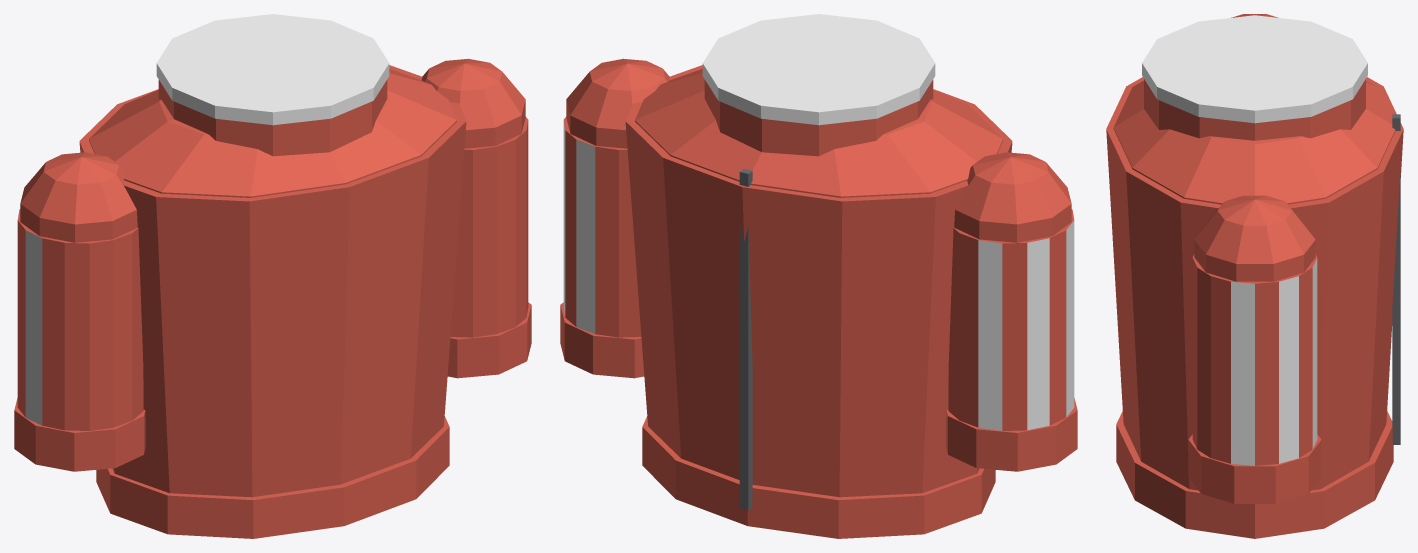
Rendered from jacket_abibas.glb.
3 views of the same model, side by side, from view 1: azimuth 30°, elevation 25°; view 2: azimuth 150°, elevation 25°; view 3: azimuth 270°, elevation 25° (orthographic). The views are drawn at different scales.
Parts seen in each view (by area): view 1: Torso, ArmL, ArmR; view 2: Torso, ArmL, ArmR; view 3: Torso, ArmR.
Boxes of the visible parts, x1=… form: Torso: x1=79, y1=14, x2=466, y2=538; ArmL: x1=14, y1=152, x2=145, y2=471; ArmR: x1=421, y1=58, x2=531, y2=378; Torso: x1=625, y1=14, x2=1012, y2=538; ArmL: x1=946, y1=152, x2=1077, y2=471; ArmR: x1=560, y1=58, x2=670, y2=378; Torso: x1=1106, y1=15, x2=1403, y2=538; ArmR: x1=1188, y1=195, x2=1321, y2=503.
Size of the model in its own units: 0.8026 by 0.635 by 0.4292.
